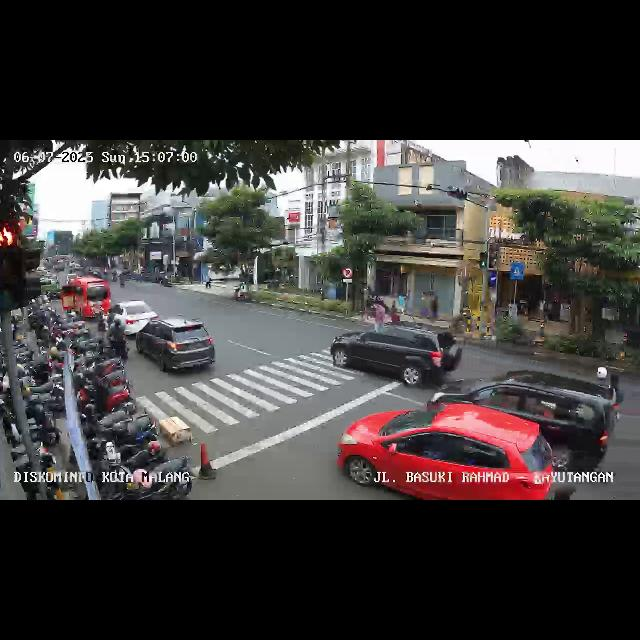car: (338, 408, 556, 499), (426, 369, 618, 468), (331, 322, 454, 390), (134, 319, 218, 377), (61, 276, 111, 320), (105, 298, 158, 332)
